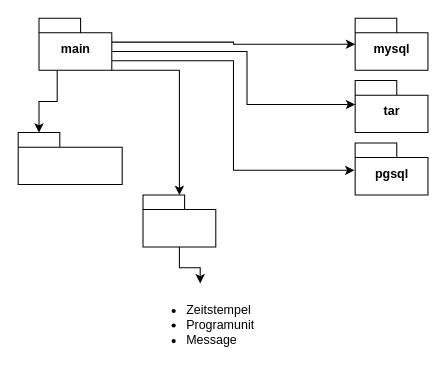
Image size: 446x385. Some labels were removed from this diagram. Here are the shapes that lost their labels. From the top down, the box of each, then its label:
(17, 132, 122, 185): json
(142, 194, 216, 247): log
